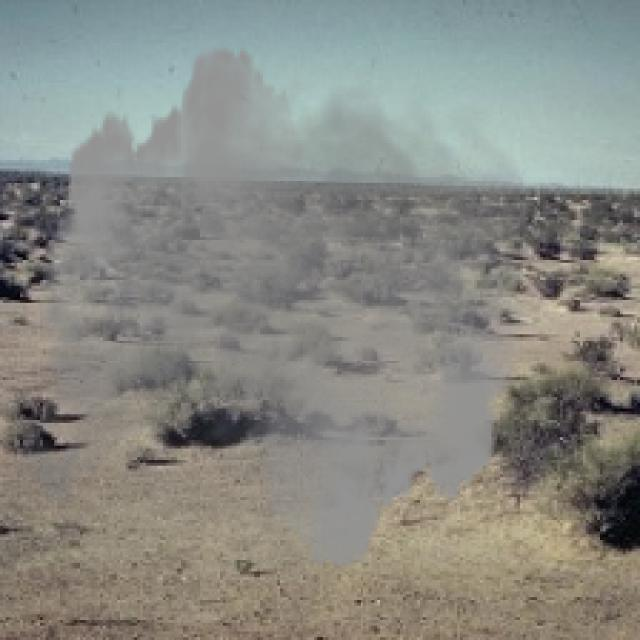Smoke: (3, 28, 546, 586)
